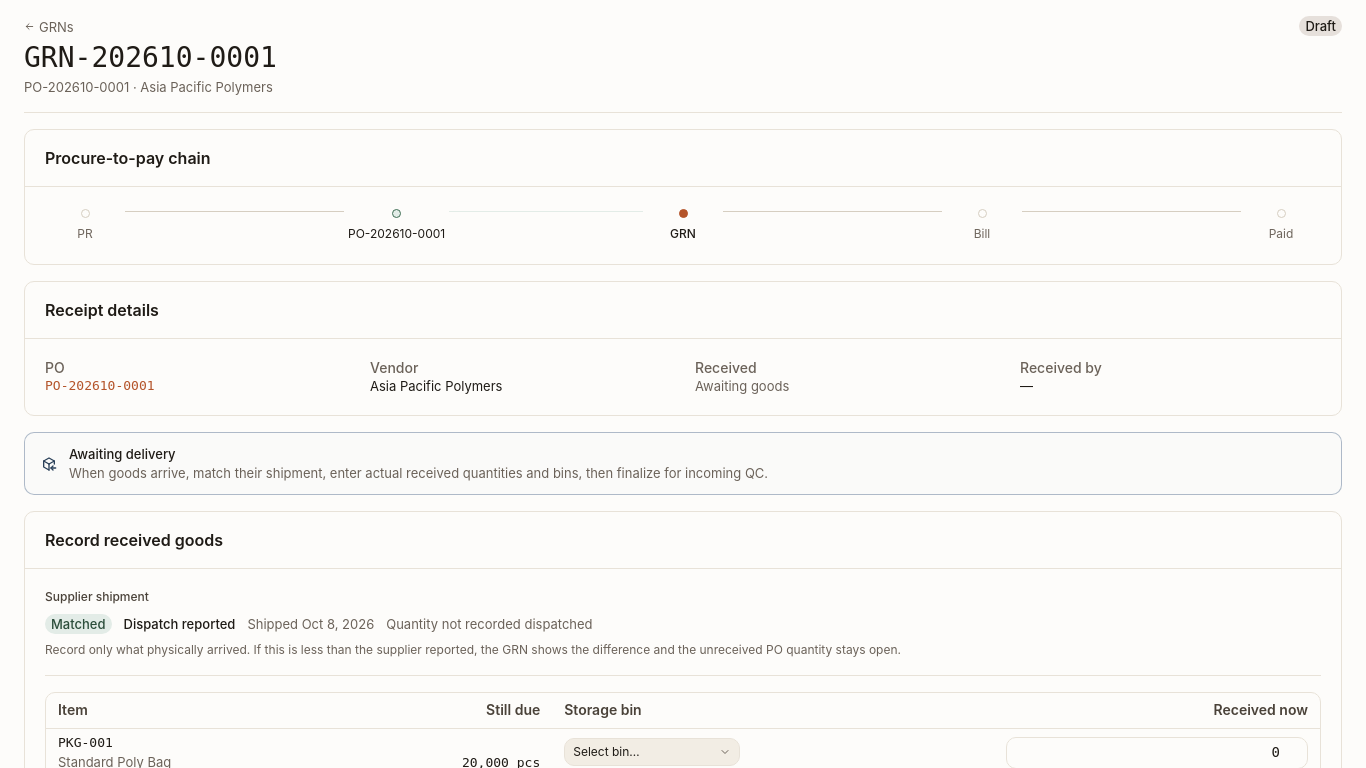
it: asks which existing bin to use when the item is stored in several bins
Expected: the dropdown named "Bin PKG-001" shows "Select bin…", [565, 739, 739, 765]
Replace the text in the number field named "Entered quantity PKG-001" with "10" at coordinates (1157, 752), box [1007, 738, 1307, 766]
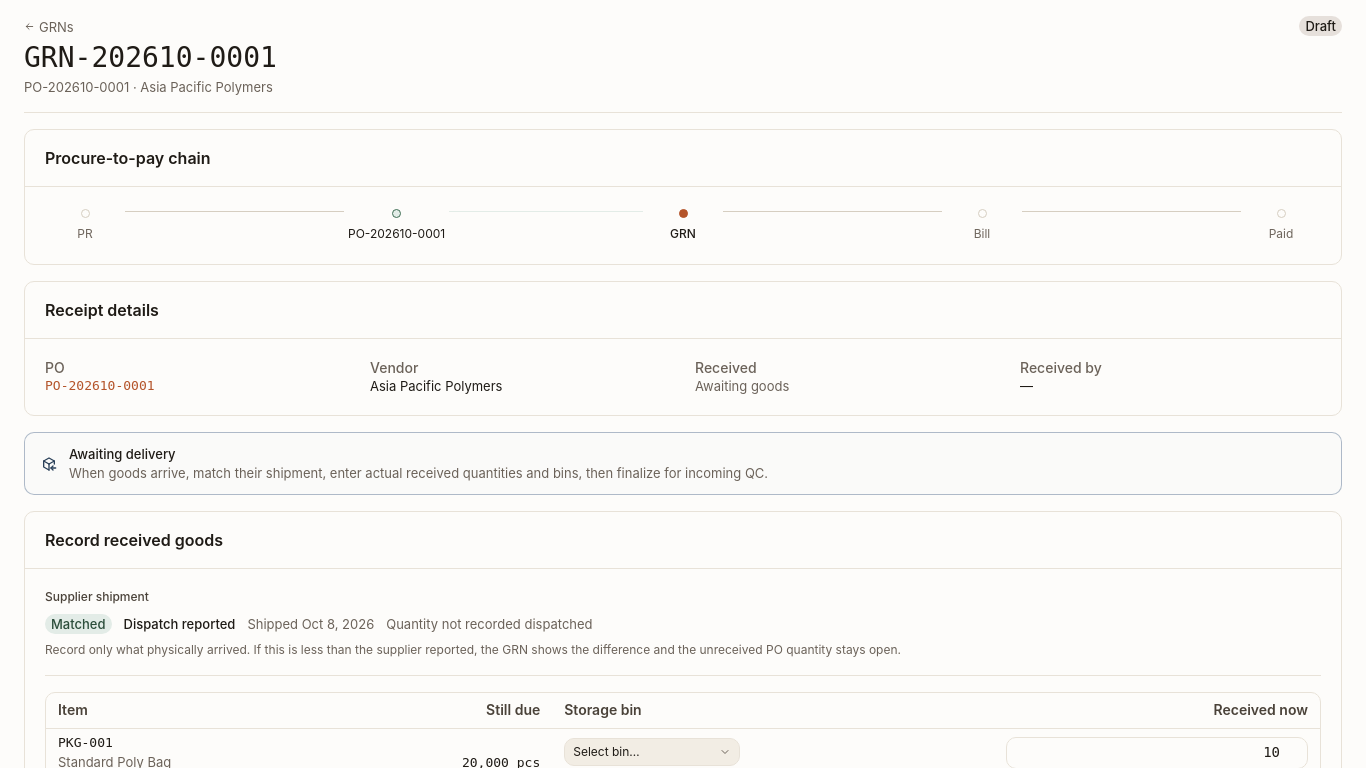
Select "MAIN-GEN-A2 · 10 in stock" in the dropdown named "Bin PKG-001" at coordinates (652, 752), box [565, 739, 739, 765]
(page scrolled)
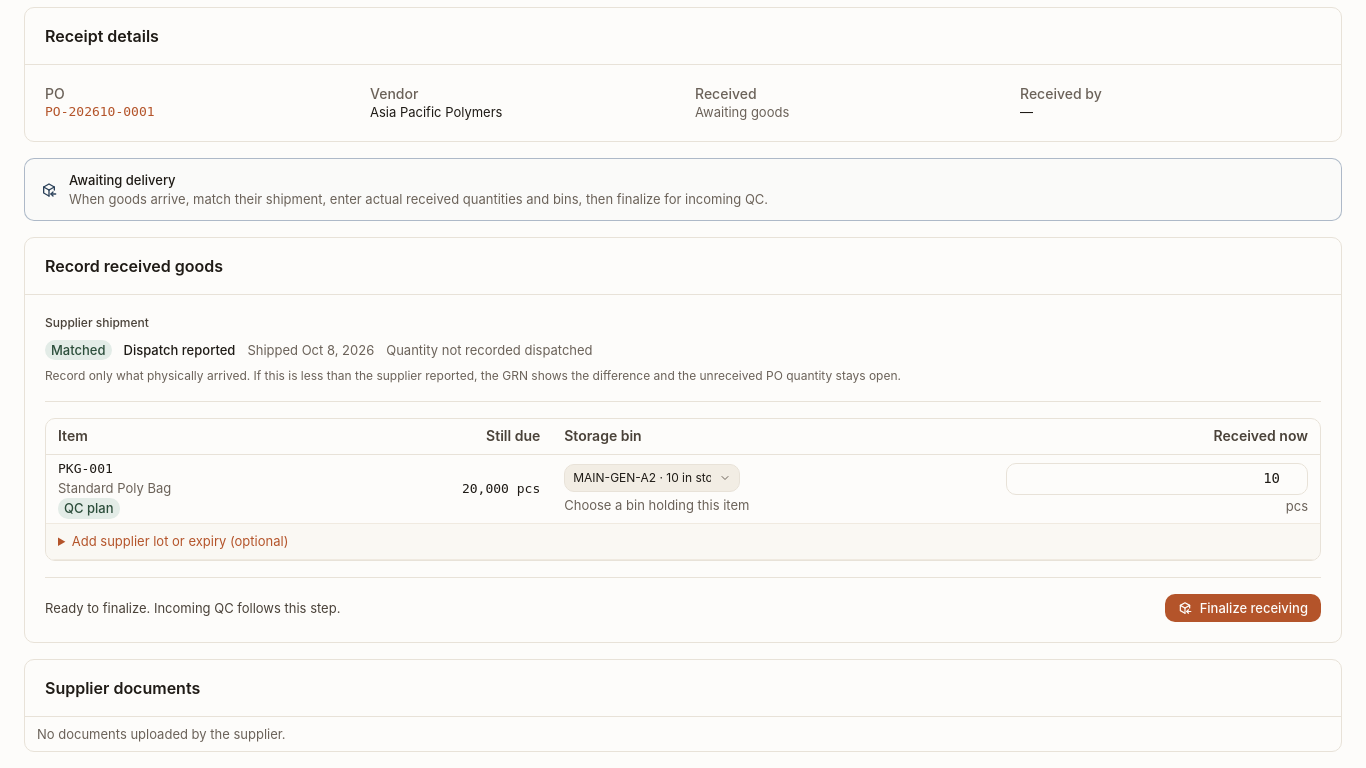
Result: the button "Finalize receiving" is enabled at [1165, 594, 1321, 622]
